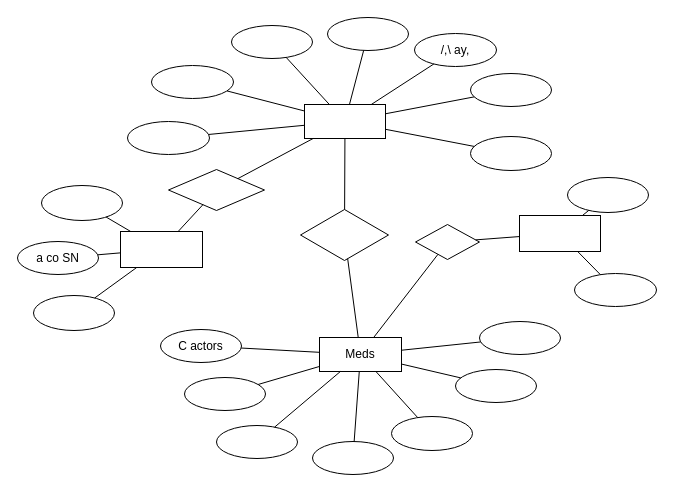
This 674x492 diagram has some shape labels left out. The shapes that lost their labels are listed below. From the top down, each one's centre as x and y in pixels, then its label:
At (x=344, y=234): "Keatietoo> Ne".
At (x=559, y=233): "Rating".
